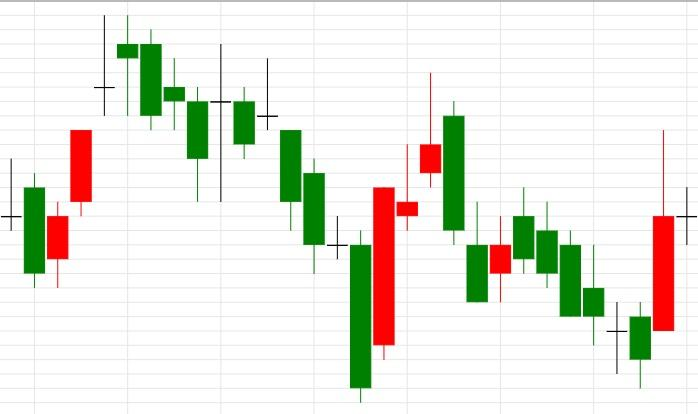shooting_star_fall: (350, 73, 442, 401)
